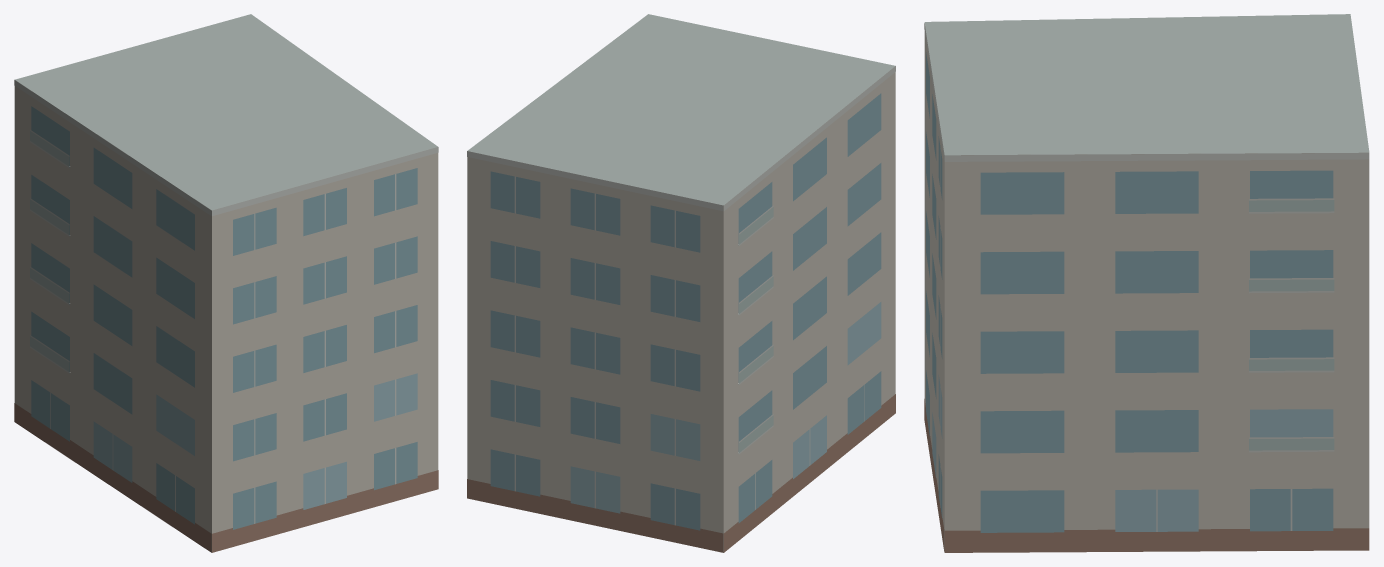
File: survey-upis-32883302.glb
The picture shows the model from 3 angles, left to right: view 1: azimuth 30°, elevation 25°; view 2: azimuth 150°, elevation 25°; view 3: azimuth 270°, elevation 25°; orthographic projection. The views are drawn at different scales.
Visible parts, largest first — view 1: survey-upis-32883302.tmp; view 2: survey-upis-32883302.tmp; view 3: survey-upis-32883302.tmp.
Part boxes in pixels (x1,y1,x2,y2): survey-upis-32883302.tmp: [14, 14, 438, 552]; survey-upis-32883302.tmp: [467, 14, 895, 552]; survey-upis-32883302.tmp: [924, 14, 1369, 552].
Bounding box in the file's own units: 10.98 × 14.4 × 14.62.
